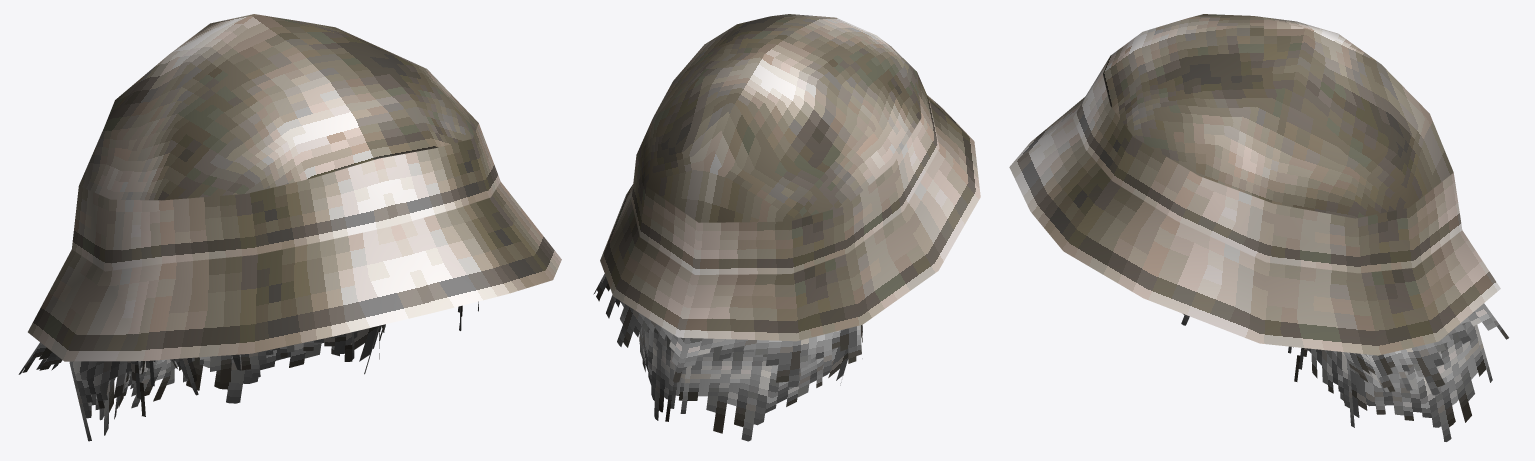
Rendered from f_hair017.glb.
The picture shows the model from 3 angles, left to right: view 1: azimuth 30°, elevation 25°; view 2: azimuth 150°, elevation 25°; view 3: azimuth 270°, elevation 25°; orthographic projection. The views are drawn at different scales.
Size of the model in its own units: 24.83 by 25.68 by 30.33.
Materials: 1 (1 with a texture image).
